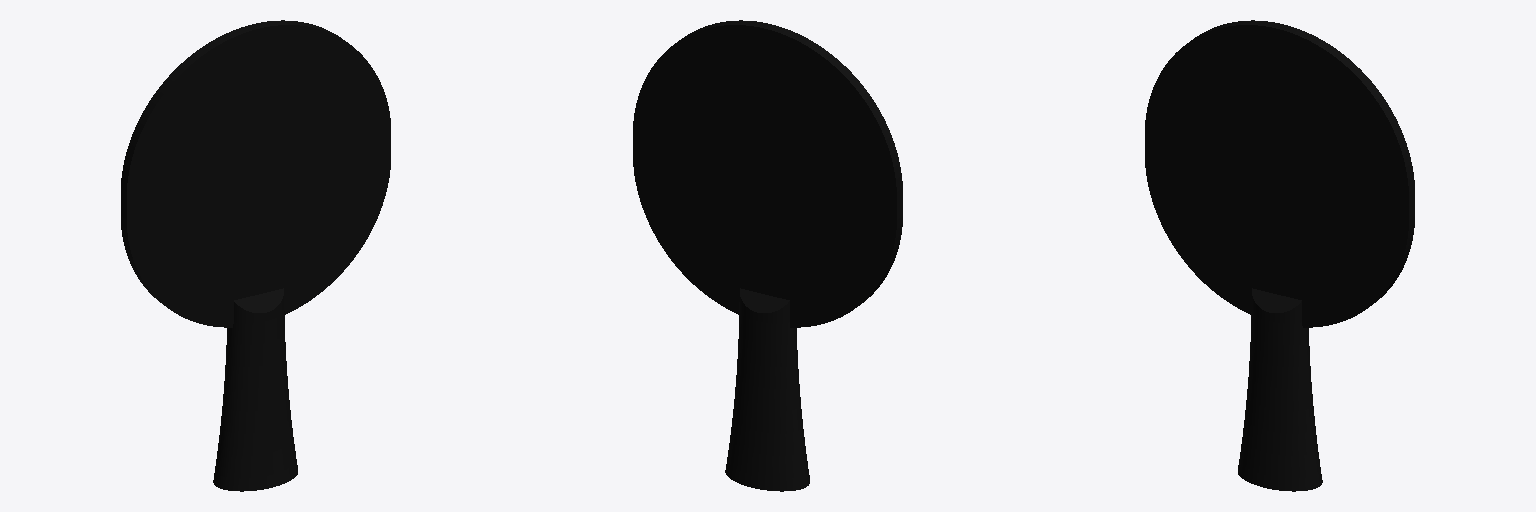
The robot description file, URDF, robot "gen3":
<?xml version="1.0" ?>
<!-- =================================================================================== -->
<!-- |    This document was autogenerated by xacro from src/ros_kortex/kortex_description/robots/gen3.xacro | -->
<!-- |    EDITING THIS FILE BY HAND IS NOT RECOMMENDED                                 | -->
<!-- =================================================================================== -->
<robot name="gen3">
  <!-- Run the macros -->
  <link name="base_link">
    <inertial>
      <origin rpy="0 0 0" xyz="-0.000648 -0.000166 0.084487"/>
      <mass value="1.697"/>
      <inertia ixx="0.004622" ixy="9E-06" ixz="6E-05" iyy="0.004495" iyz="9E-06" izz="0.002079"/>
    </inertial>
    <visual>
      <origin rpy="0 0 0" xyz="0 0 0"/>
      <geometry>
        <mesh filename="meshes/kinova_gen3_robotiq_2f_140/arms/gen3/7dof/meshes/base_link.STL"/>
      </geometry>
      <material name="">
        <color rgba="0.75294 0.75294 0.75294 1"/>
      </material>
    </visual>
    <collision>
      <origin rpy="0 0 0" xyz="0 0 0"/>
      <geometry>
        <mesh filename="meshes/kinova_gen3_robotiq_2f_140/arms/gen3/7dof/meshes/base_link.STL"/>
      </geometry>
    </collision>
  </link>
  <link name="shoulder_link">
    <inertial>
      <origin rpy="0 0 0" xyz="-2.3E-05 -0.010364 -0.07336"/>
      <mass value="1.3773"/>
      <inertia ixx="0.00457" ixy="1E-06" ixz="2E-06" iyy="0.004831" iyz="0.000448" izz="0.001409"/>
    </inertial>
    <visual>
      <origin rpy="0 0 0" xyz="0 0 0"/>
      <geometry>
        <mesh filename="meshes/kinova_gen3_robotiq_2f_140/arms/gen3/7dof/meshes/shoulder_link.STL"/>
      </geometry>
      <material name="">
        <color rgba="0.75294 0.75294 0.75294 1"/>
      </material>
    </visual>
    <collision>
      <origin rpy="0 0 0" xyz="0 0 0"/>
      <geometry>
        <mesh filename="meshes/kinova_gen3_robotiq_2f_140/arms/gen3/7dof/meshes/shoulder_link.STL"/>
      </geometry>
    </collision>
  </link>
  <joint name="joint_1" type="continuous">
    <origin rpy="3.1416 2.7629E-18 -4.9305E-36" xyz="0 0 0.15643"/>
    <parent link="base_link"/>
    <child link="shoulder_link"/>
    <axis xyz="0 0 1"/>
    <limit effort="39" velocity="1.3963"/>
  </joint>
  <link name="half_arm_1_link">
    <inertial>
      <origin rpy="0 0 0" xyz="-4.4E-05 -0.09958 -0.013278"/>
      <mass value="1.1636"/>
      <inertia ixx="0.011088" ixy="5E-06" ixz="0" iyy="0.001072" iyz="-0.000691" izz="0.011255"/>
    </inertial>
    <visual>
      <origin rpy="0 0 0" xyz="0 0 0"/>
      <geometry>
        <mesh filename="meshes/kinova_gen3_robotiq_2f_140/arms/gen3/7dof/meshes/half_arm_1_link.STL"/>
      </geometry>
      <material name="">
        <color rgba="0.75294 0.75294 0.75294 1"/>
      </material>
    </visual>
    <collision>
      <origin rpy="0 0 0" xyz="0 0 0"/>
      <geometry>
        <mesh filename="meshes/kinova_gen3_robotiq_2f_140/arms/gen3/7dof/meshes/half_arm_1_link.STL"/>
      </geometry>
    </collision>
  </link>
  <joint name="joint_2" type="revolute">
    <origin rpy="1.5708 2.1343E-17 -1.1102E-16" xyz="0 0.005375 -0.12838"/>
    <parent link="shoulder_link"/>
    <child link="half_arm_1_link"/>
    <axis xyz="0 0 1"/>
    <limit effort="39" lower="-2.41" upper="2.41" velocity="1.3963"/>
  </joint>
  <link name="half_arm_2_link">
    <inertial>
      <origin rpy="0 0 0" xyz="-4.4E-05 -0.006641 -0.117892"/>
      <mass value="1.1636"/>
      <inertia ixx="0.010932" ixy="0" ixz="-7E-06" iyy="0.011127" iyz="0.000606" izz="0.001043"/>
    </inertial>
    <visual>
      <origin rpy="0 0 0" xyz="0 0 0"/>
      <geometry>
        <mesh filename="meshes/kinova_gen3_robotiq_2f_140/arms/gen3/7dof/meshes/half_arm_2_link.STL"/>
      </geometry>
      <material name="">
        <color rgba="0.75294 0.75294 0.75294 1"/>
      </material>
    </visual>
    <collision>
      <origin rpy="0 0 0" xyz="0 0 0"/>
      <geometry>
        <mesh filename="meshes/kinova_gen3_robotiq_2f_140/arms/gen3/7dof/meshes/half_arm_2_link.STL"/>
      </geometry>
    </collision>
  </link>
  <joint name="joint_3" type="continuous">
    <origin rpy="-1.5708 1.2326E-32 -2.9122E-16" xyz="0 -0.21038 -0.006375"/>
    <parent link="half_arm_1_link"/>
    <child link="half_arm_2_link"/>
    <axis xyz="0 0 1"/>
    <limit effort="39" velocity="1.3963"/>
  </joint>
  <link name="forearm_link">
    <inertial>
      <origin rpy="0 0 0" xyz="-1.8E-05 -0.075478 -0.015006"/>
      <mass value="0.9302"/>
      <inertia ixx="0.008147" ixy="-1E-06" ixz="0" iyy="0.000631" iyz="-0.0005" izz="0.008316"/>
    </inertial>
    <visual>
      <origin rpy="0 0 0" xyz="0 0 0"/>
      <geometry>
        <mesh filename="meshes/kinova_gen3_robotiq_2f_140/arms/gen3/7dof/meshes/forearm_link.STL"/>
      </geometry>
      <material name="">
        <color rgba="0.75294 0.75294 0.75294 1"/>
      </material>
    </visual>
    <collision>
      <origin rpy="0 0 0" xyz="0 0 0"/>
      <geometry>
        <mesh filename="meshes/kinova_gen3_robotiq_2f_140/arms/gen3/7dof/meshes/forearm_link.STL"/>
      </geometry>
    </collision>
  </link>
  <joint name="joint_4" type="revolute">
    <origin rpy="1.5708 -6.6954E-17 -1.6653E-16" xyz="0 0.006375 -0.21038"/>
    <parent link="half_arm_2_link"/>
    <child link="forearm_link"/>
    <axis xyz="0 0 1"/>
    <limit effort="39" lower="-2.66" upper="2.66" velocity="1.3963"/>
  </joint>
  <link name="spherical_wrist_1_link">
    <inertial>
      <origin rpy="0 0 0" xyz="1E-06 -0.009432 -0.063883"/>
      <mass value="0.6781"/>
      <inertia ixx="0.001596" ixy="0" ixz="0" iyy="0.001607" iyz="0.000256" izz="0.000399"/>
    </inertial>
    <visual>
      <origin rpy="0 0 0" xyz="0 0 0"/>
      <geometry>
        <mesh filename="meshes/kinova_gen3_robotiq_2f_140/arms/gen3/7dof/meshes/spherical_wrist_1_link.STL"/>
      </geometry>
      <material name="">
        <color rgba="0.75294 0.75294 0.75294 1"/>
      </material>
    </visual>
    <collision>
      <origin rpy="0 0 0" xyz="0 0 0"/>
      <geometry>
        <mesh filename="meshes/kinova_gen3_robotiq_2f_140/arms/gen3/7dof/meshes/spherical_wrist_1_link.STL"/>
      </geometry>
    </collision>
  </link>
  <joint name="joint_5" type="continuous">
    <origin rpy="-1.5708 2.2204E-16 -6.373E-17" xyz="0 -0.20843 -0.006375"/>
    <parent link="forearm_link"/>
    <child link="spherical_wrist_1_link"/>
    <axis xyz="0 0 1"/>
    <limit effort="9" velocity="1.2218"/>
  </joint>
  <link name="spherical_wrist_2_link">
    <inertial>
      <origin rpy="0 0 0" xyz="1E-06 -0.045483 -0.00965"/>
      <mass value="0.6781"/>
      <inertia ixx="0.001641" ixy="0" ixz="0" iyy="0.00041" iyz="-0.000278" izz="0.001641"/>
    </inertial>
    <visual>
      <origin rpy="0 0 0" xyz="0 0 0"/>
      <geometry>
        <mesh filename="meshes/kinova_gen3_robotiq_2f_140/arms/gen3/7dof/meshes/spherical_wrist_2_link.STL"/>
      </geometry>
      <material name="">
        <color rgba="0.75294 0.75294 0.75294 1"/>
      </material>
    </visual>
    <collision>
      <origin rpy="0 0 0" xyz="0 0 0"/>
      <geometry>
        <mesh filename="meshes/kinova_gen3_robotiq_2f_140/arms/gen3/7dof/meshes/spherical_wrist_2_link.STL"/>
      </geometry>
    </collision>
  </link>
  <joint name="joint_6" type="revolute">
    <origin rpy="1.5708 9.2076E-28 -8.2157E-15" xyz="0 0.00017505 -0.10593"/>
    <parent link="spherical_wrist_1_link"/>
    <child link="spherical_wrist_2_link"/>
    <axis xyz="0 0 1"/>
    <limit effort="9" lower="-2.23" upper="2.23" velocity="1.2218"/>
  </joint>
  <link name="bracelet_link">
    <inertial>
      <origin rpy="0 0 0" xyz="0.000281 0.011402 -0.029798"/>
      <mass value="0.5"/>
      <inertia ixx="0.000587" ixy="3E-06" ixz="3E-06" iyy="0.000369" iyz="-0.000118" izz="0.000609"/>
    </inertial>
    <visual>
      <origin rpy="0 0 0" xyz="0 0 0"/>
      <geometry>
        <mesh filename="meshes/kinova_gen3_robotiq_2f_140/arms/gen3/7dof/meshes/bracelet_with_vision_link.STL"/>
      </geometry>
      <material name="">
        <color rgba="0.75294 0.75294 0.75294 1"/>
      </material>
    </visual>
    <collision>
      <origin rpy="0 0 0" xyz="0 0 0"/>
      <geometry>
        <mesh filename="meshes/kinova_gen3_robotiq_2f_140/arms/gen3/7dof/meshes/bracelet_with_vision_link.STL"/>
      </geometry>
    </collision>
  </link>
  <joint name="joint_7" type="continuous">
    <origin rpy="-1.5708 -5.5511E-17 9.6396E-17" xyz="0 -0.10593 -0.00017505"/>
    <parent link="spherical_wrist_2_link"/>
    <child link="bracelet_link"/>
    <axis xyz="0 0 1"/>
    <limit effort="9" velocity="1.2218"/>
  </joint>
  <link name="end_effector_link"/>
  <joint name="end_effector" type="fixed">
    <origin rpy="3.14159265358979 1.09937075168372E-32 0" xyz="0 0 -0.0615250000000001"/>
    <parent link="bracelet_link"/>
    <child link="end_effector_link"/>
    <axis xyz="0 0 0"/>
  </joint>
  <link name="camera_link"/>
  <joint name="camera_module" type="fixed">
    <origin rpy="3.14159265358979 3.14159265358979 0" xyz="0 0.05639 -0.00305"/>
    <parent link="end_effector_link"/>
    <child link="camera_link"/>
  </joint>
  <link name="camera_depth_frame"/>
  <joint name="depth_module" type="fixed">
    <origin rpy="3.14159265358979 3.14159265358979 0" xyz="0.0275 0.066 -0.00305"/>
    <parent link="end_effector_link"/>
    <child link="camera_depth_frame"/>
  </joint>
  <link name="camera_color_frame"/>
  <joint name="color_module" type="fixed">
    <origin rpy="3.14159265358979 3.14159265358979 0" xyz="0 0.05639 -0.00305"/>
    <parent link="end_effector_link"/>
    <child link="camera_color_frame"/>
  </joint>
  <link name="tool_frame"/>
  <joint name="tool_frame_joint" type="fixed">
    <origin rpy="0 0 0" xyz="0 0 0"/>
    <parent link="end_effector_link"/>
    <child link="tool_frame"/>
    <axis xyz="0 0 0"/>
  </joint>
  <joint name="pad_joint" type="fixed">
    <parent link="end_effector_link"/>
    <child link="pad"/>
    <origin rpy="0.0 0.0 1.57" xyz="0.0 0.0 0.0"/>
  </joint>
  <link name="pad">
    <!-- <inertial> -->
    <!--   <origin rpy="0 0 0" xyz="8.625E-08 -4.6583E-06 0.03145"/> -->
    <!--   <mass value="0.22652"/> -->
    <!--   <inertia ixx="0.00020005" ixy="-4.2442E-10" ixz="-2.9069E-10" iyy="0.00017832" iyz="-3.4402E-08" izz="0.00013478"/> -->
    <!-- </inertial> -->
    <visual>
      <origin rpy="1.57 0 1.57" xyz="0 0 0.1"/>
      <geometry>
        <!-- The DAE file doesn't show well in Gazebo so we're using the STL instead -->
        <!-- <mesh filename="meshes/kinova_gen3_robotiq_2f_140/grippers/robotiq_2f_140/meshes/visual/robotiq_arg2f_140_base_link.dae" scale="0.001 0.001 0.001"/> -->
        <mesh filename="meshes/kinova_gen3_robotiq_2f_140/paddle_scaled.stl"/>
      </geometry>
      <material name="">
        <color rgba="0.1 0.1 0.1 1"/>
      </material>
    </visual>
    <collision>
      <origin rpy="1.57 0 1.57" xyz="0 0 0.1"/>
      <geometry>
        <mesh filename="meshes/kinova_gen3_robotiq_2f_140/paddle_scaled.stl"/>
      </geometry>
    </collision>
  </link>
</robot>

--- Render facts (derived) ---
3 views of the same robot in one strip: view 1: azimuth 30°, elevation 25°; view 2: azimuth 150°, elevation 25°; view 3: azimuth 330°, elevation 25° (orthographic).
Robot: gen3 — 14 links, 13 joints (3 revolute, 4 continuous, 6 fixed); root link base_link; default pose: all joints at 0.
Visible links, largest first — view 1: pad; view 2: pad; view 3: pad.
Link boxes in pixels (<box>): pad: <box>121,20,390,491</box>; pad: <box>633,20,902,491</box>; pad: <box>1145,20,1414,491</box>.
Size in the robot's own frame: 0.15 by 0.03 by 0.244 metres.
Meshes: 9 distinct files referenced, 1 mesh visuals loaded (1 binary STL); not drawn: 8 (reference not matched to a file when rendering).